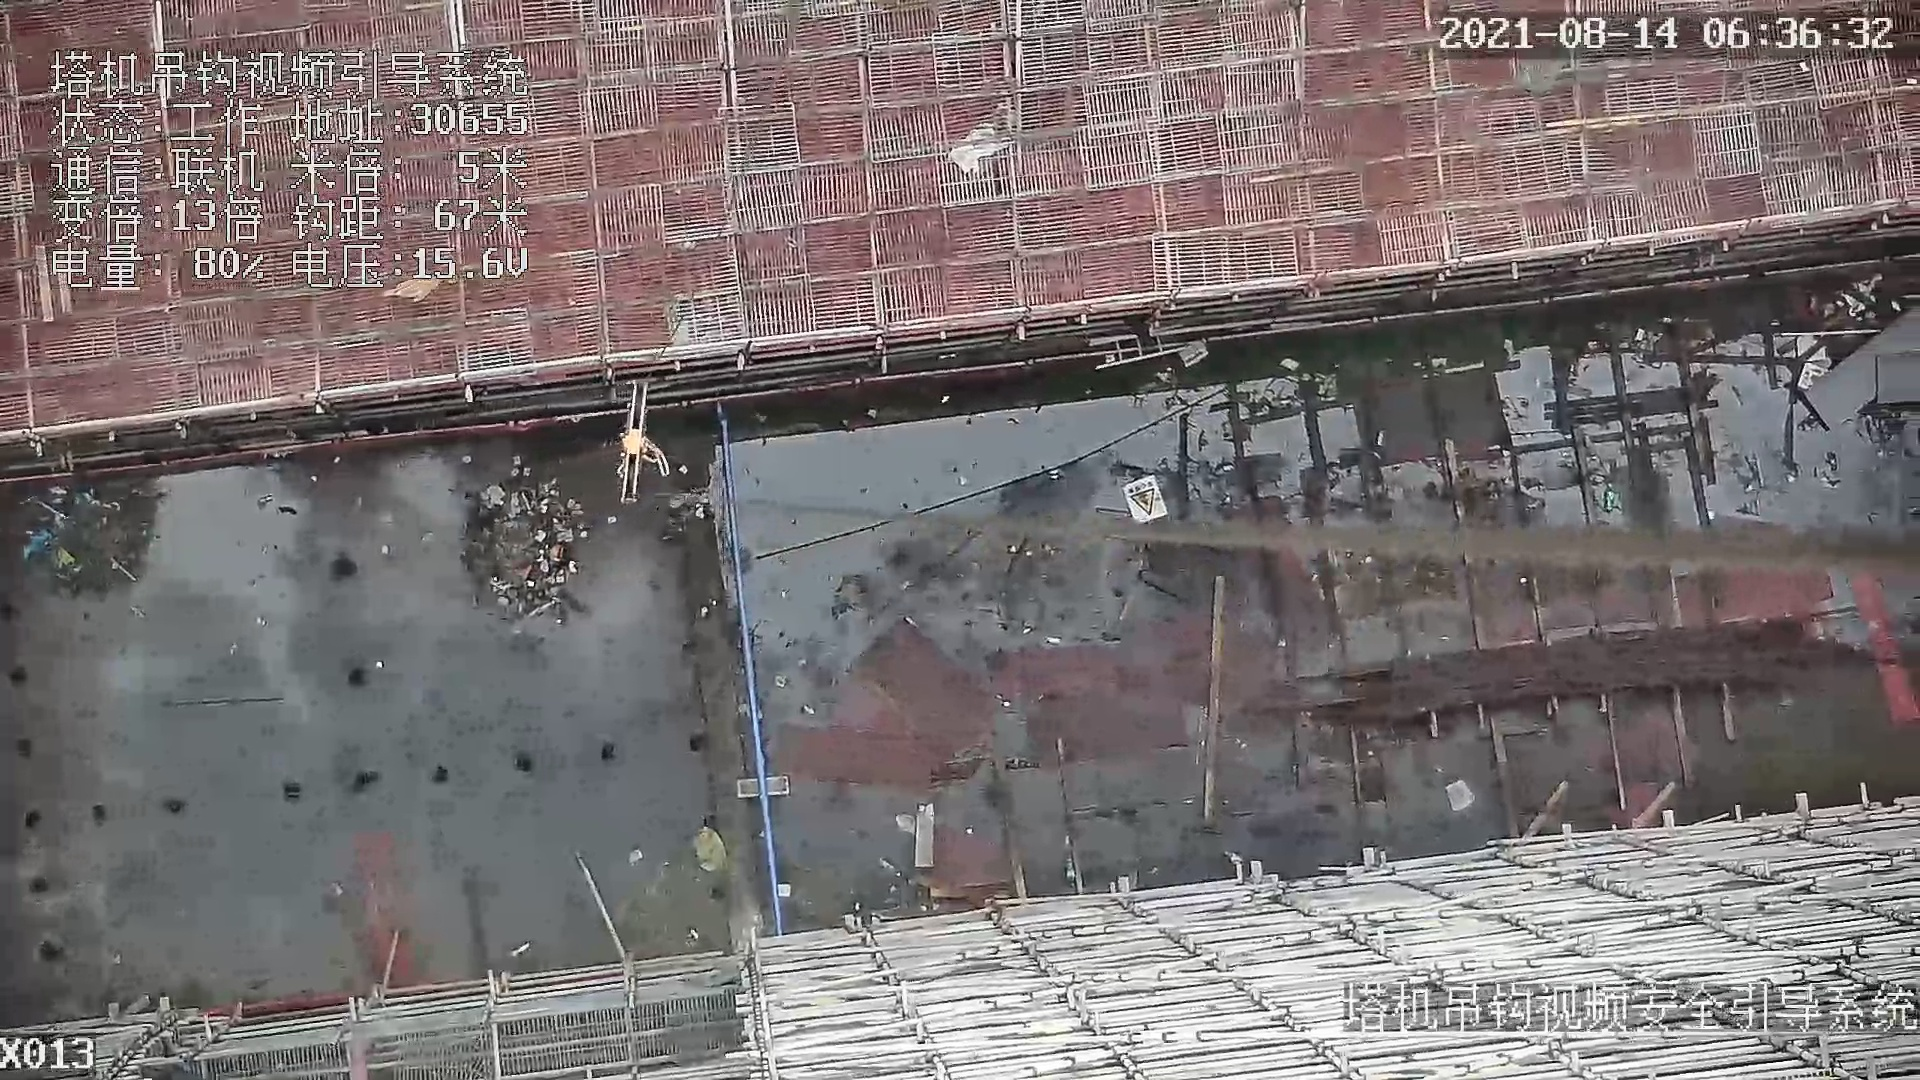hook: (609, 378, 665, 508)
